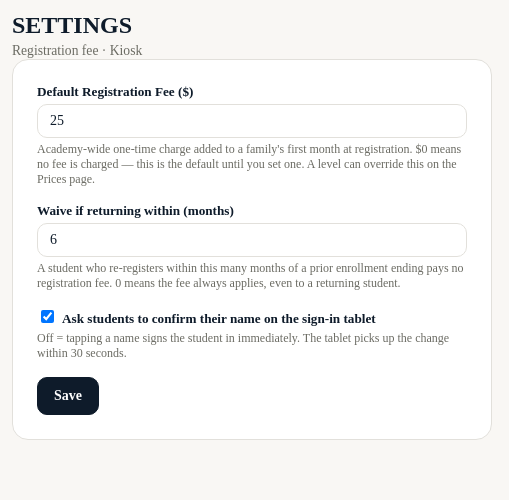
AdminSettingsPage › shows the kiosk confirmation setting and saves it switched off
What coordinates should you click on to do the following:
click the checkbox labelled "Ask students to confirm their name on the sign-in tablet"
I would click on:
 (48, 316)
Its box is x1=41 y1=310 x2=54 y2=323.
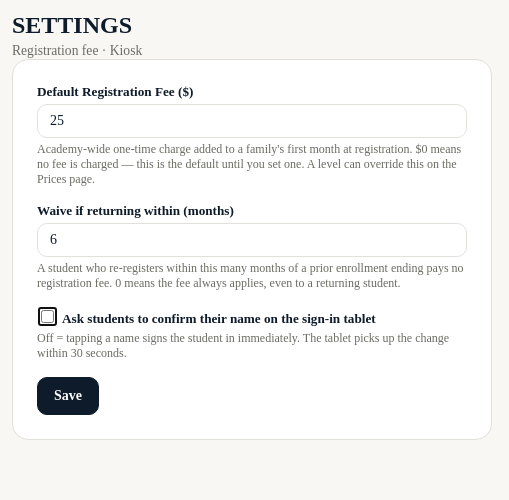
Check: the checkbox labelled "Ask students to confirm their name on the sign-in tablet" is not checked, box x1=41 y1=310 x2=54 y2=323
What coordinates should you click on to do the following:
click the button "Save"
I would click on:
 (68, 396)
Its box is x1=37 y1=377 x2=99 y2=415.
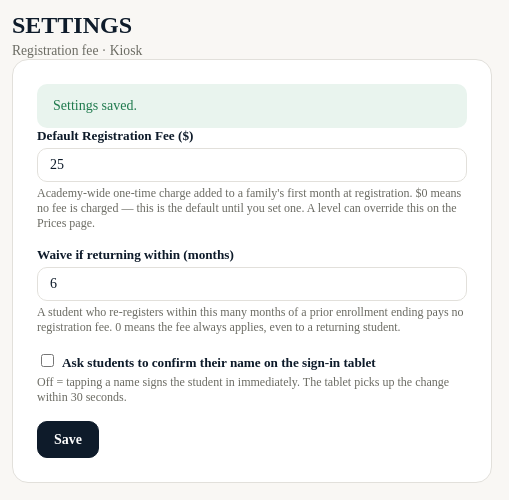
Check: the text "Settings saved." is shown, box x1=37 y1=84 x2=467 y2=128
